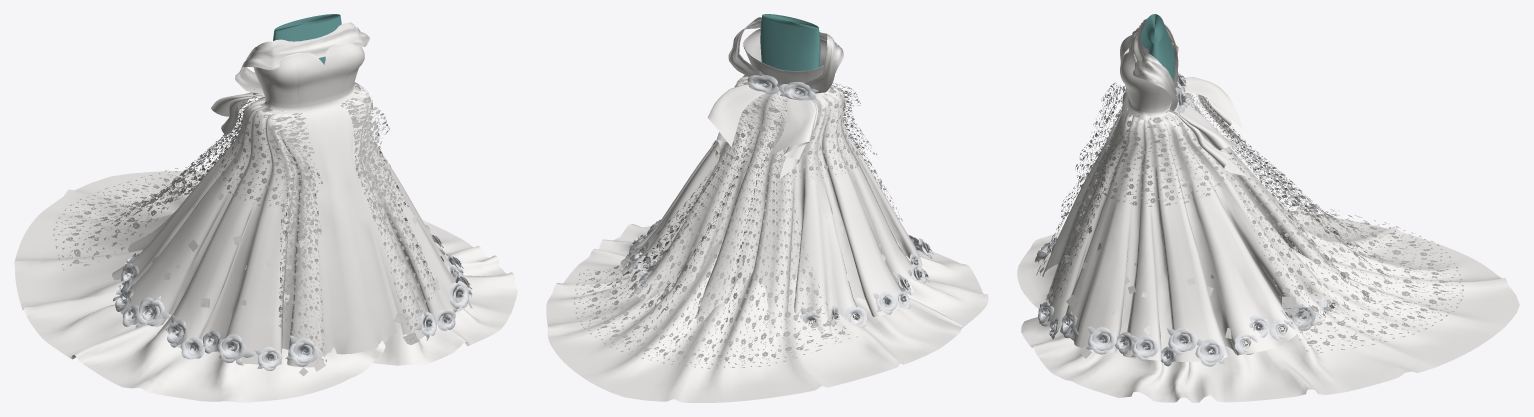
The model's file is princess_wedding.glb.
The picture shows the model from 3 angles, left to right: view 1: azimuth 30°, elevation 25°; view 2: azimuth 150°, elevation 25°; view 3: azimuth 270°, elevation 25°; orthographic projection. The views are drawn at different scales.
Parts seen in each view (by area): view 1: Object_8, Object_12, Object_4, Object_6, Object_10, LuvlyTorsoDepth; view 2: Object_12, Object_8, Object_10, Object_4, Object_6, LuvlyTorsoDepth, Object_16; view 3: Object_8, Object_12, Object_10, Object_4, Object_6, LuvlyTorsoDepth.
Part boxes in pixels (box(x1,y1,x2,y2)): Object_8: box(112, 82, 463, 367); Object_12: box(14, 171, 517, 402); Object_4: box(214, 41, 435, 362); Object_6: box(113, 191, 472, 376); Object_10: box(53, 22, 369, 270); LuvlyTorsoDepth: box(273, 14, 341, 64); Object_12: box(546, 224, 988, 402); Object_8: box(620, 76, 922, 335); Object_10: box(574, 17, 857, 368); Object_4: box(710, 28, 899, 219); Object_6: box(623, 175, 933, 327); LuvlyTorsoDepth: box(760, 14, 820, 70); Object_16: box(742, 71, 818, 102); Object_8: box(1042, 89, 1347, 362); Object_12: box(1017, 206, 1519, 402); Object_10: box(1129, 18, 1463, 353); Object_4: box(1040, 32, 1241, 304); Object_6: box(1034, 176, 1350, 366); LuvlyTorsoDepth: box(1141, 14, 1174, 80).
Bounding box in the file's own units: 2.13 × 1.45 × 2.34.
Materials: 6 (5 with a texture image).
